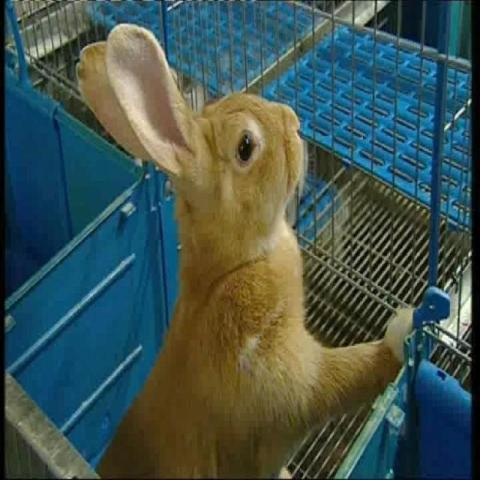small_animal: (73, 22, 430, 480)
